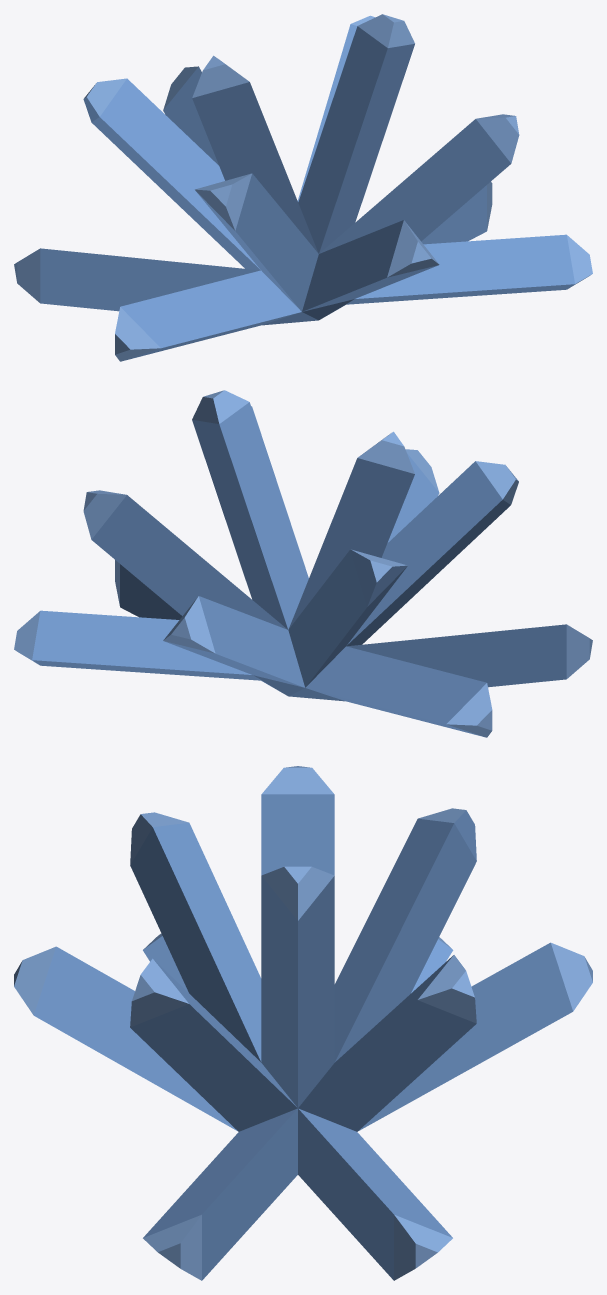
File: crystal_19.fbx
3 views of the same model, one above another, from view 1: azimuth 30°, elevation 25°; view 2: azimuth 150°, elevation 25°; view 3: azimuth 270°, elevation 25° (orthographic). The views are drawn at different scales.
Visible parts, largest first — view 1: crystal_19; view 2: crystal_19; view 3: crystal_19.
Part boxes in pixels (bbox=[...]): crystal_19: bbox=[14, 14, 592, 361]; crystal_19: bbox=[14, 390, 592, 737]; crystal_19: bbox=[14, 766, 592, 1280].
Size of the model in its own units: 214 by 119 by 187.
